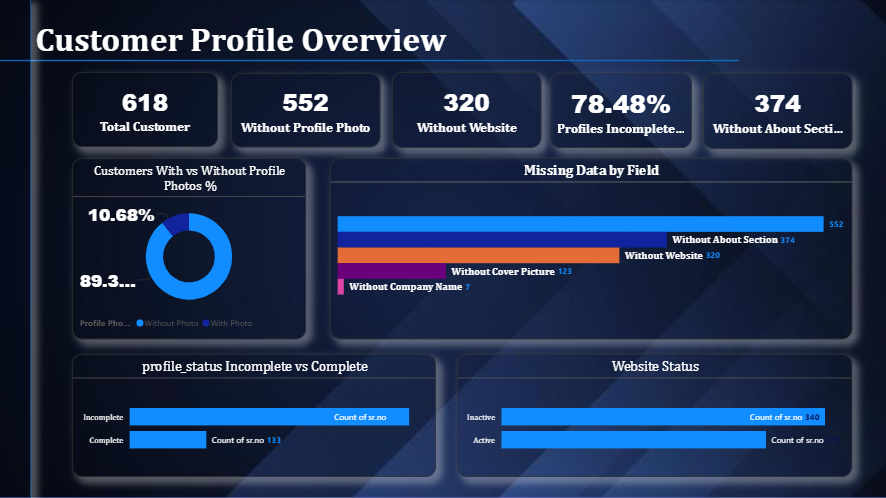

The page's visual inventory and layout, read from the dashboard file:
{"tool":"powerbi","page":{"name":"Overview","canvas":[1280,720],"ordinal":0},"visuals":[{"type":"card","fields":{"Values":["user details.Total Customer"]},"box":[105.1,105.1,210.2,108],"z":0},{"type":"card","fields":{"Values":["user details.Users without Profile Photo"]},"box":[334.1,106.6,214.6,106.6],"z":1000},{"type":"card","fields":{"Values":["user details.Users Without Website"]},"box":[565.9,105.1,214.6,109.4],"z":2000},{"type":"card","fields":{"Values":["user details.User without About Section"]},"box":[1013.8,106.6,214.6,109.4],"z":3000},{"type":"textbox","box":[47.5,24.5,745.9,80.6],"z":4000},{"type":"card","fields":{"Values":["user details.% of Profiles with Missing Data"]},"box":[793.4,106.6,204.5,108],"z":5000},{"type":"donutChart","title":"Customers With vs Without Profile Photos %","fields":{"Category":["user details.Profile Photo Status"],"Y":["CountNonNull(user details.sr.no)"]},"box":[105.1,229,337,260.6],"z":6000},{"type":"barChart","title":"profile_status Incomplete vs Complete","fields":{"Category":["user details.profile_status"],"Y":["CountNonNull(user details.sr.no)"]},"box":[105.1,511.2,524.2,177.1],"z":7000},{"type":"clusteredBarChart","title":"Missing Data by Field","fields":{"Y":["user details.Without Profile Photo","user details.Without About Section","user details.Without Website","user details.Without Cover Picture","user details.Without Company Name"]},"box":[476.6,229,751.7,260.6],"z":8000},{"type":"barChart","title":"Website Status","fields":{"Category":["user details.Website Status"],"Y":["CountNonNull(user details.sr.no)"]},"box":[659.5,511.2,568.8,177.1],"z":9000},{"type":"shape","box":[0,17.3,1065.6,142.6],"z":15000},{"type":"shape","box":[0,0,45.7,720],"z":16000}]}

Visuals, with their boxes in screenshot pixels (x1, y1, x2, y2), scaled from the page's 1280x720 canvas onto the 886x498 screenshot:
card - user details.Total Customer: 73 73 218 147
card - user details.Users without Profile Photo: 231 74 380 147
card - user details.Users Without Website: 392 73 540 148
card - user details.User without About Section: 702 74 850 149
textbox: 33 17 549 73
card - user details.% of Profiles with Missing Data: 549 74 691 148
"Customers With vs Without Profile Photos %" donutChart: 73 158 306 339
"profile_status Incomplete vs Complete" barChart: 73 354 436 476
"Missing Data by Field" clusteredBarChart: 330 158 850 339
"Website Status" barChart: 456 354 850 476
shape: 0 12 738 111
shape: 0 0 32 497
